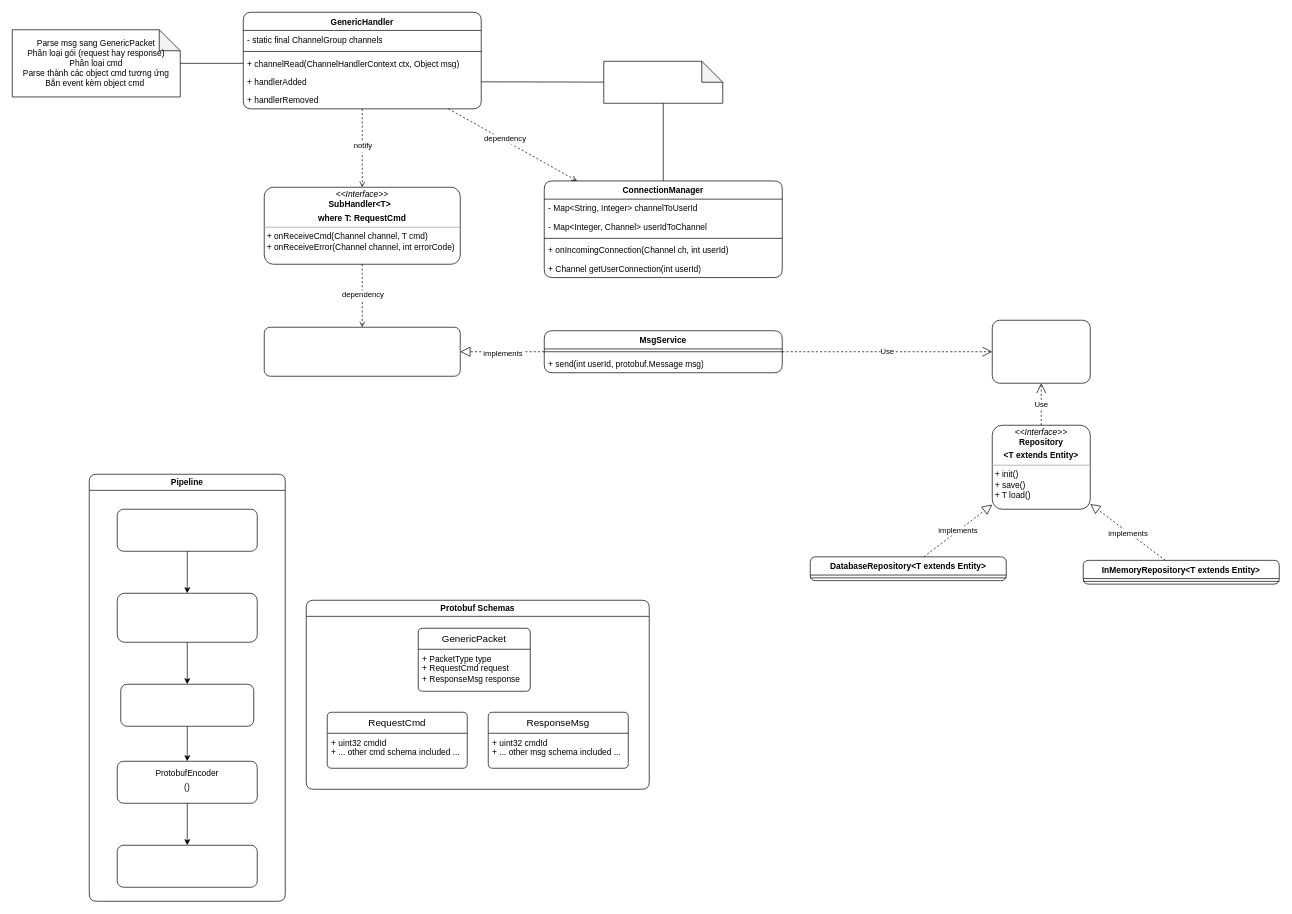
Some shapes in this 1292 by 914 pixel diagram are drawn without their labels. Here are the shapes that lost their labels. From the top down, the centre of each, then its label:
point 663,82: Quản lý các connection
point 362,351: <<Interface>> Service
point 1041,351: <<Interface>> Entity
point 187,530: <FrameDecoder> LenghFieldBasedFrameDecoder
point 187,617: ProtobufDecoder ( GenericPacket .getDefaultInstance())
point 187,705: <FrameEncoder> LengthFieldPrepender
point 187,866: <Server Generic Handler> GenericHandler
